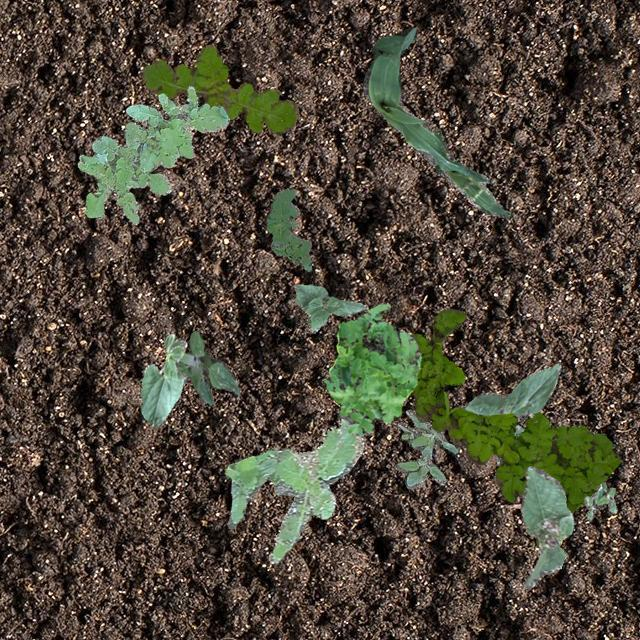crop: (362, 26, 509, 218), (460, 362, 560, 464), (520, 464, 572, 588), (140, 332, 186, 428), (292, 284, 366, 332)
weed: (410, 308, 620, 512), (76, 84, 228, 222), (225, 417, 362, 563), (140, 44, 298, 134), (322, 302, 421, 436), (394, 408, 456, 488), (177, 329, 239, 404), (266, 188, 310, 270), (584, 482, 616, 520)
